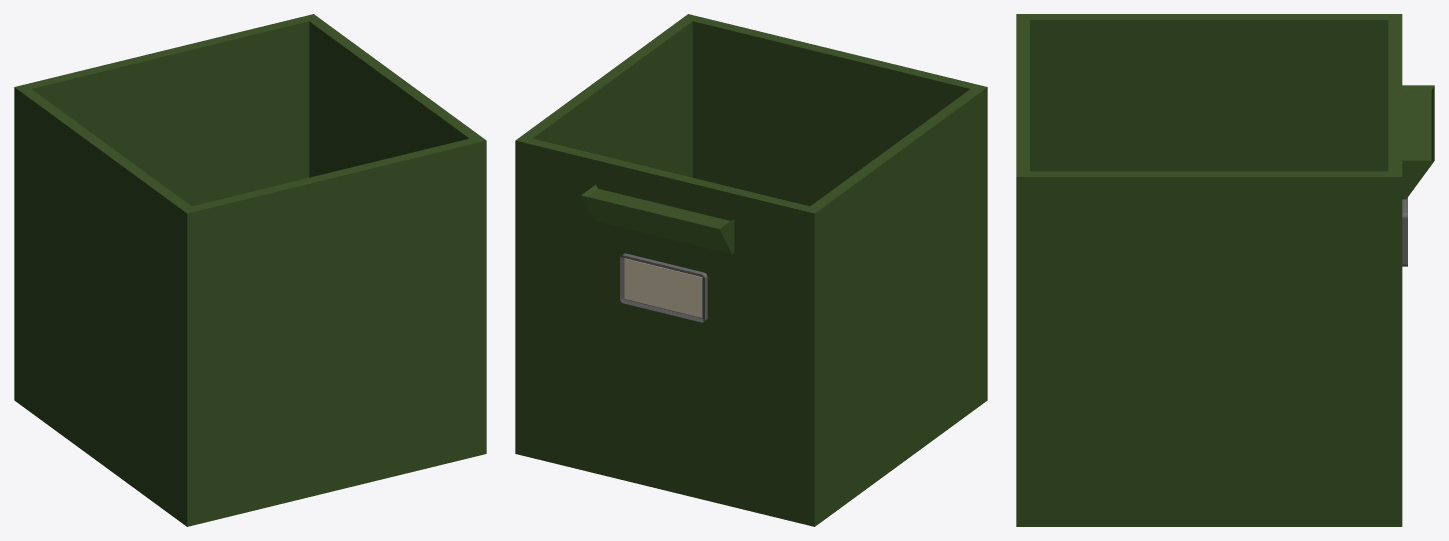
File: casier_tiroir.glb
3 renders of one model, left to right at view 1: azimuth 30°, elevation 25°; view 2: azimuth 150°, elevation 25°; view 3: azimuth 270°, elevation 25°, orthographic. The views are drawn at different scales.
Parts seen in each view (by area): view 1: model; view 2: model; view 3: model.
Boxes of the visible parts, x1=… form: model: x1=14, y1=14, x2=486, y2=526; model: x1=515, y1=14, x2=987, y2=526; model: x1=1016, y1=14, x2=1434, y2=526.
Size of the model in its own units: 3.5 by 3.5 by 3.79.
